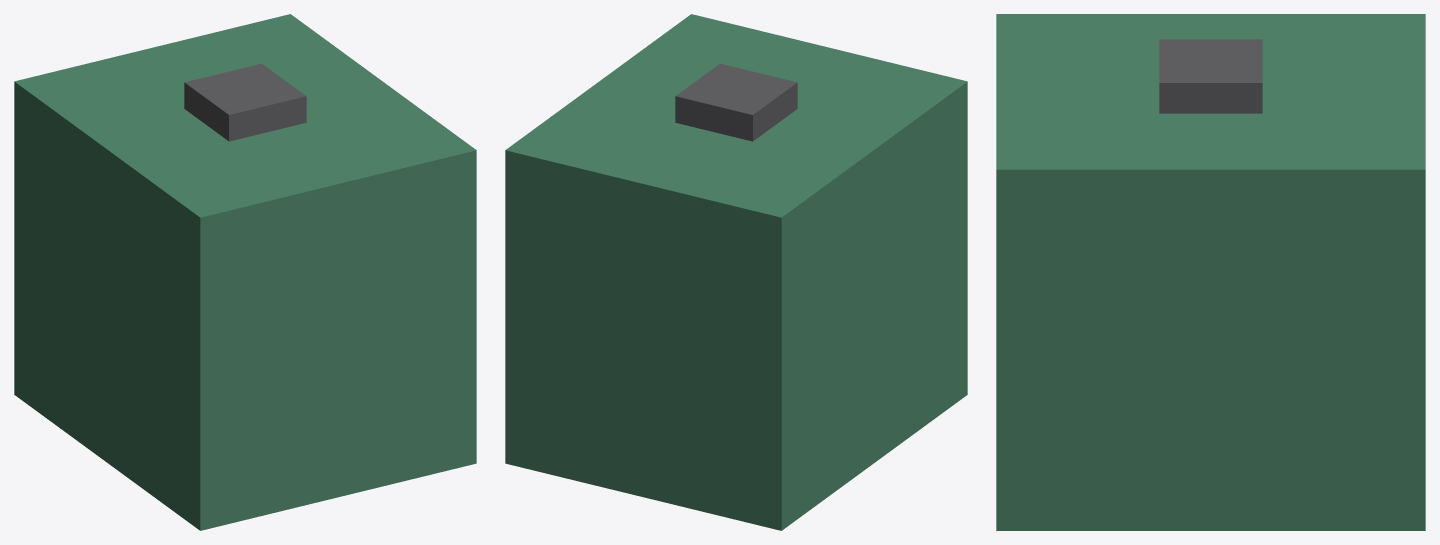
3 renders of one model, left to right at view 1: azimuth 30°, elevation 25°; view 2: azimuth 150°, elevation 25°; view 3: azimuth 270°, elevation 25°, orthographic. The views are drawn at different scales.
Parts seen in each view (by area): view 1: ec11-pcb, ec11-ic; view 2: ec11-pcb, ec11-ic; view 3: ec11-pcb, ec11-ic.
Part boxes in pixels (x1,y1,x2,y2): ec11-pcb: [14, 14, 476, 530]; ec11-ic: [184, 63, 306, 141]; ec11-pcb: [505, 14, 967, 530]; ec11-ic: [675, 63, 797, 141]; ec11-pcb: [996, 14, 1425, 530]; ec11-ic: [1159, 39, 1262, 113].
Bounding box in the file's own units: 0.012 × 0.0141 × 0.014.
